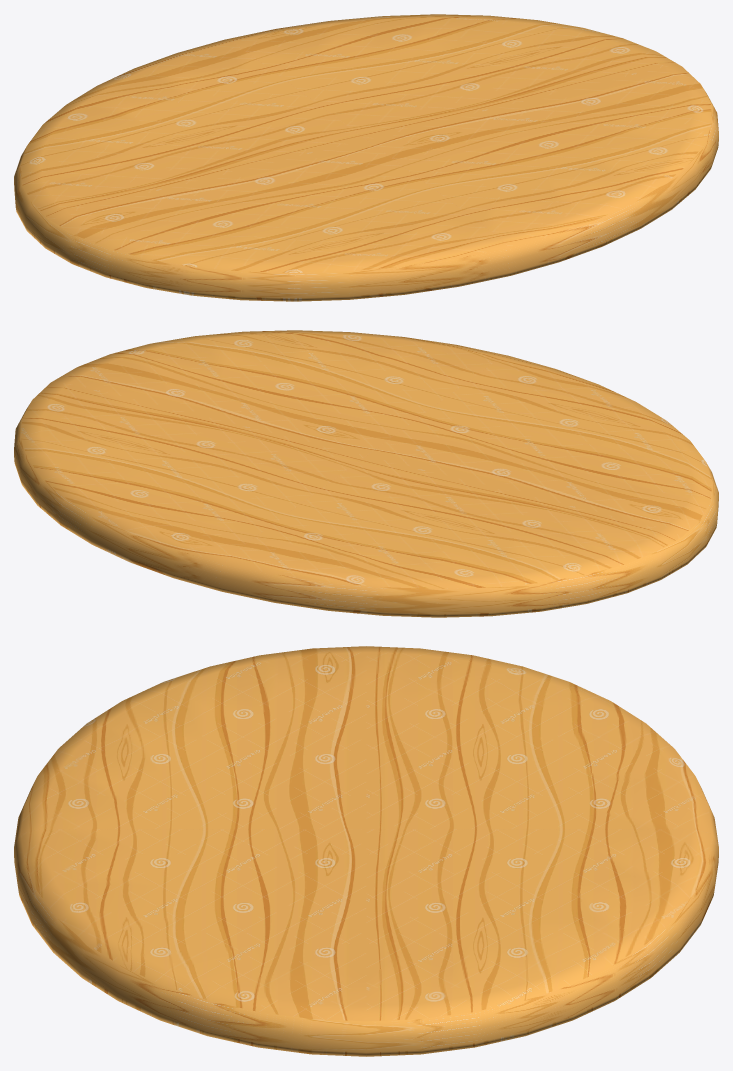
Rendered from Table.FBX.
3 renders of one model, top to bottom at view 1: azimuth 30°, elevation 25°; view 2: azimuth 150°, elevation 25°; view 3: azimuth 270°, elevation 25°, orthographic. The views are drawn at different scales.
Visible parts, largest first — view 1: Room_01_Table; view 2: Room_01_Table; view 3: Room_01_Table.
Part boxes in pixels (x1,y1,x2,y2): Room_01_Table: (14, 14, 718, 301); Room_01_Table: (14, 330, 718, 617); Room_01_Table: (14, 646, 718, 1056).
Bounding box in the file's own units: 66.68 × 3 × 51.94.
Materials: 1 (1 with a texture image).
